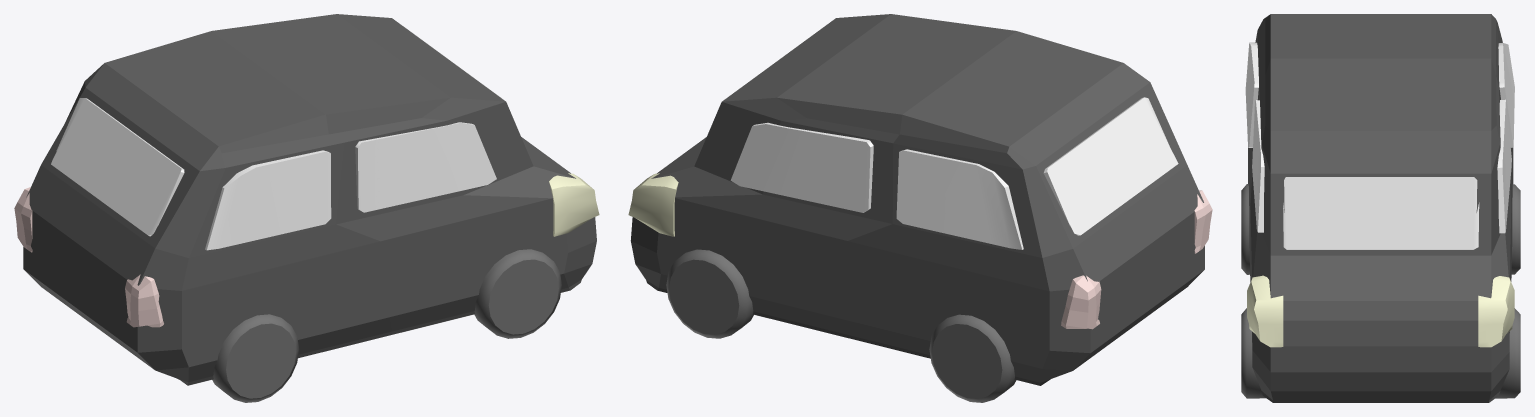
File: CarroNegro.fbx
3 views of the same model, side by side, from view 1: azimuth 30°, elevation 25°; view 2: azimuth 150°, elevation 25°; view 3: azimuth 270°, elevation 25° (orthographic). The views are drawn at different scales.
Visible parts, largest first — view 1: pCube1, pCube10, pCube8, pCube7, pCylinder1, pCylinder2, pCube11, pCube9; view 2: pCube1, pCube10, pCube12, pCube4, pCylinder3, pCylinder4, pCube11, pCube9; view 3: pCube1, pCube6, pCube9, pCube12, pCube8, pCylinder3, pCylinder1, pCube4, pCube7, pCylinder4, pCylinder2.
Part boxes in pixels (box(x1,y1,x2,y2)): pCube1: box(23, 14, 596, 385); pCube10: box(51, 98, 184, 236); pCube8: box(355, 122, 496, 212); pCube7: box(205, 150, 331, 250); pCylinder1: box(474, 249, 561, 338); pCylinder2: box(212, 314, 299, 402); pCube11: box(14, 187, 163, 327); pCube9: box(549, 173, 599, 236); pCube1: box(630, 14, 1204, 385); pCube10: box(1043, 97, 1178, 235); pCube12: box(730, 122, 873, 212); pCube4: box(896, 149, 1023, 249); pCylinder3: box(666, 249, 753, 338); pCylinder4: box(929, 314, 1016, 402); pCube11: box(1061, 190, 1212, 329); pCube9: box(628, 173, 678, 236); pCube1: box(1248, 14, 1513, 402); pCube6: box(1283, 177, 1479, 249); pCube9: box(1247, 275, 1514, 347); pCube12: box(1497, 99, 1511, 233); pCube8: box(1252, 100, 1264, 232); pCylinder3: box(1495, 308, 1520, 398); pCylinder1: box(1241, 308, 1265, 398); pCube4: box(1498, 42, 1514, 147); pCube7: box(1245, 42, 1258, 147); pCylinder4: box(1511, 184, 1520, 274); pCylinder2: box(1241, 184, 1249, 274).
Size of the model in its own units: 20.49 by 10.94 by 11.09.
